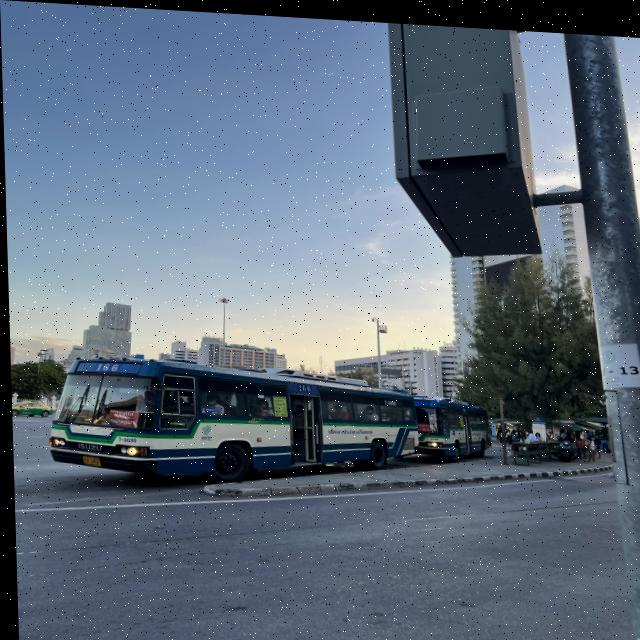BMTA-bus: (43, 347, 420, 489), (406, 386, 492, 457)
Bus-Line-Number: (91, 359, 122, 373), (295, 379, 310, 390)
Destination-Sign-Extra-Bus: (104, 408, 139, 427)
